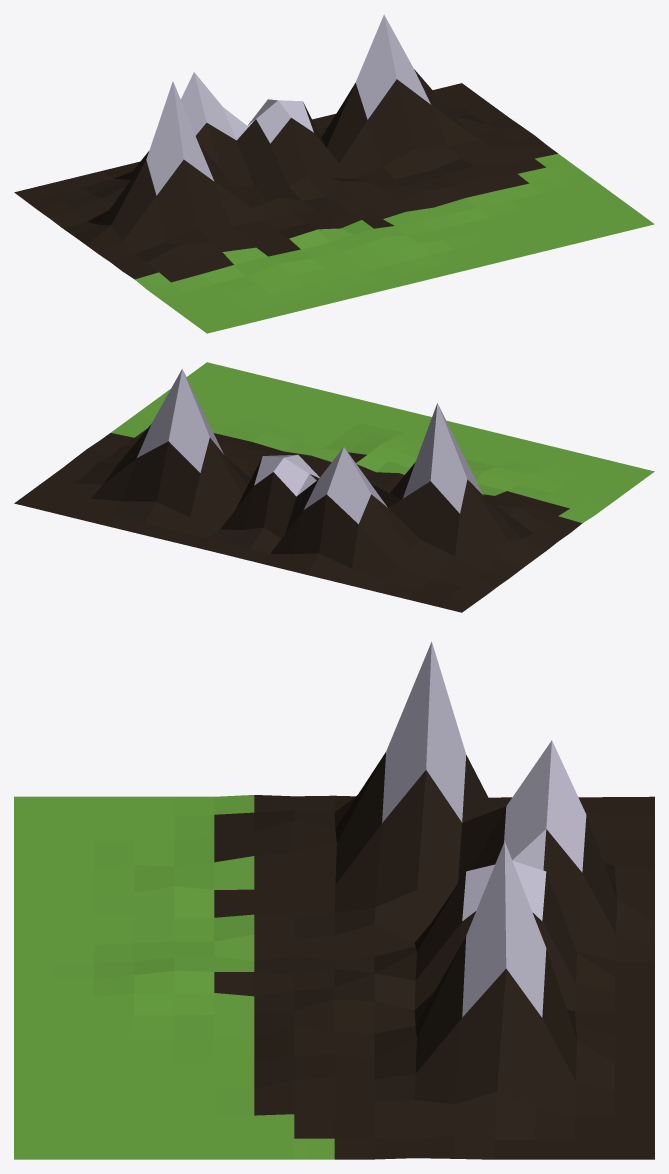
File: mtns.obj
3 views of the same model, one above another, from view 1: azimuth 30°, elevation 25°; view 2: azimuth 150°, elevation 25°; view 3: azimuth 270°, elevation 25° (orthographic). The views are drawn at different scales.
Visible parts, largest first — view 1: Sahne_Plane; view 2: Sahne_Plane; view 3: Sahne_Plane.
Boxes of the visible parts, left/top/right/bottom form: Sahne_Plane: left=14, top=14, right=654, bottom=333; Sahne_Plane: left=14, top=362, right=654, bottom=612; Sahne_Plane: left=14, top=641, right=654, bottom=1159.
Bounding box in the file's own units: 21.26 × 6.3 × 15.86.
